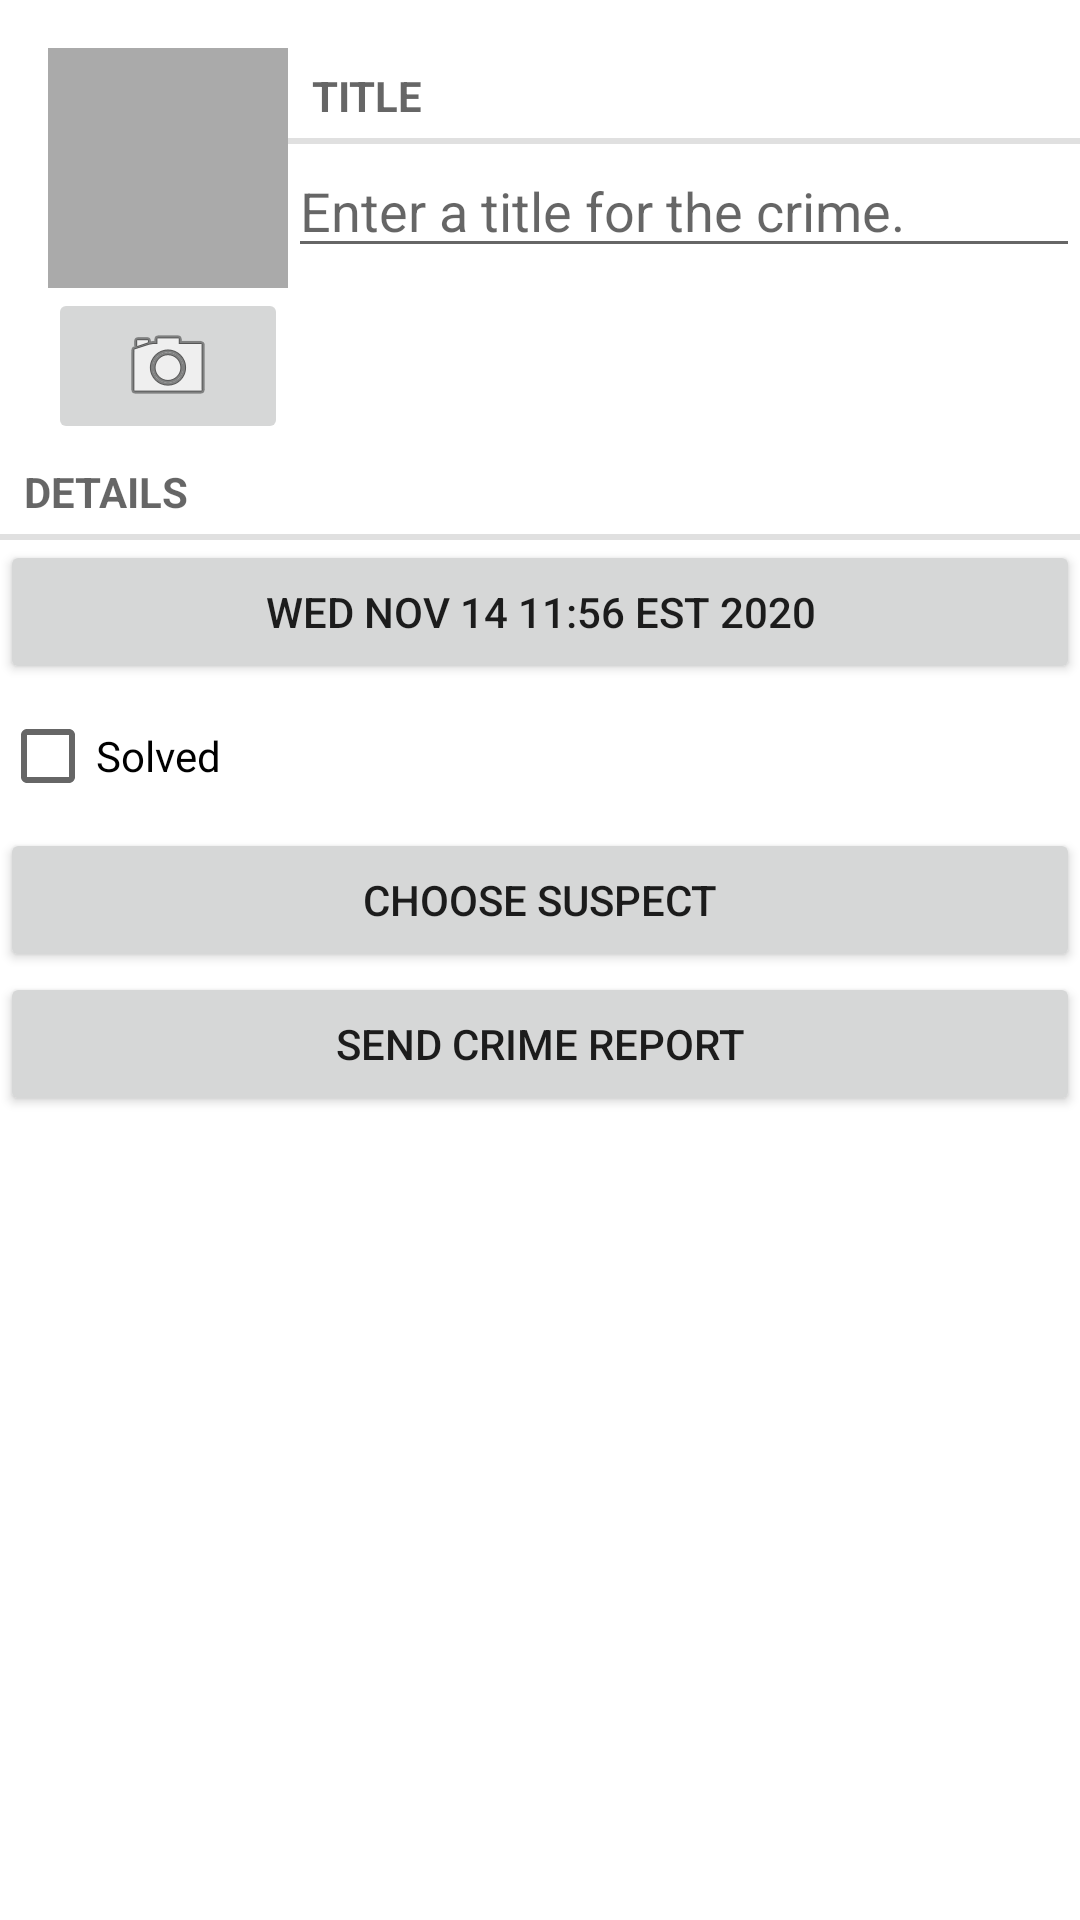

Screen size 1080w x 1920h. Icon name, then its center in pixels as (x,y):
Take photo of crime scene: (168,366)
